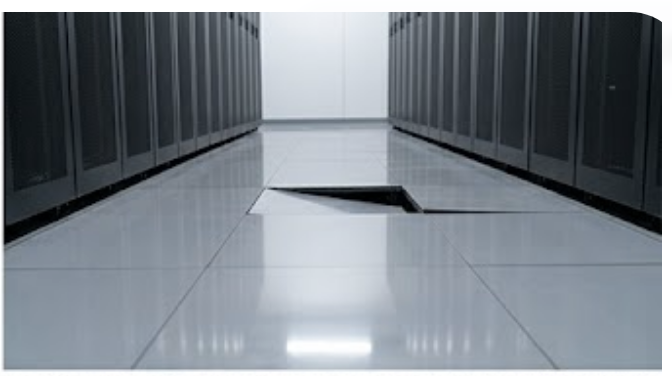floor_defect: (245, 183, 422, 215), (422, 200, 492, 217)
